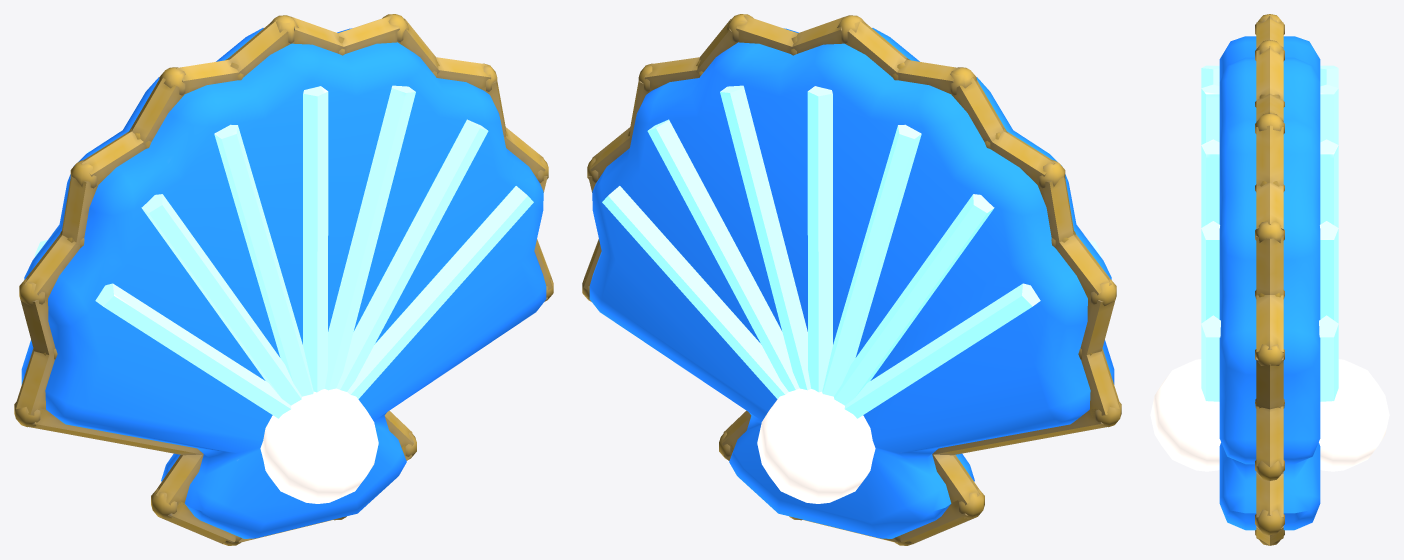
Rendered from mu_coin.glb.
3 renders of one model, left to right at view 1: azimuth 30°, elevation 25°; view 2: azimuth 150°, elevation 25°; view 3: azimuth 270°, elevation 25°, orthographic. The views are drawn at different scales.
Visible parts, largest first — view 1: mu_coin; view 2: mu_coin; view 3: mu_coin.
Boxes of the visible parts, <box> form: mu_coin: <box>14,14,553,545</box>; mu_coin: <box>582,14,1121,545</box>; mu_coin: <box>1150,14,1389,545</box>.
Size of the model in its own units: 0.9142 by 0.84 by 0.38.
4 materials, 4 textured.
